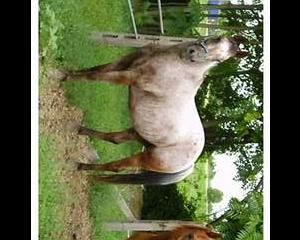horse: (45, 33, 249, 185), (58, 223, 224, 240)
